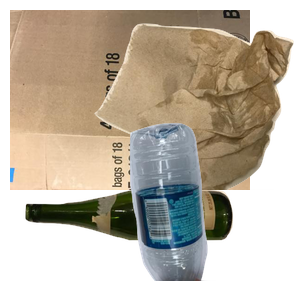cardboard: (10, 10, 250, 190)
glass: (23, 186, 249, 300)
plastic: (127, 120, 300, 300)
trash: (92, 21, 300, 201)
